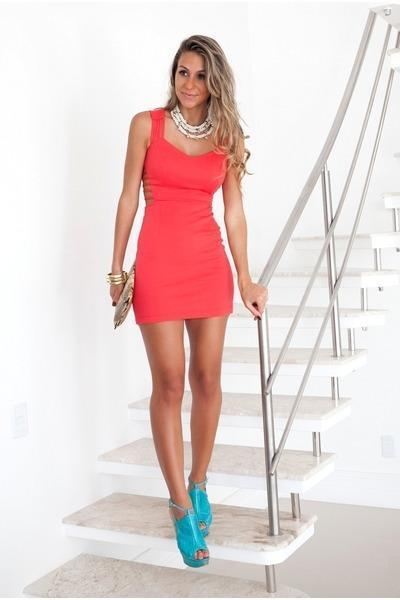bag: (110, 280, 132, 323)
dress: (132, 108, 233, 323)
shoe: (169, 473, 211, 567)
